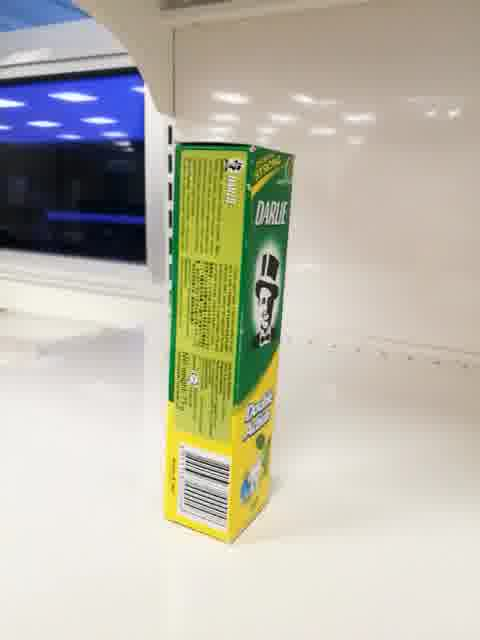toothpaste: (163, 138, 296, 543)
